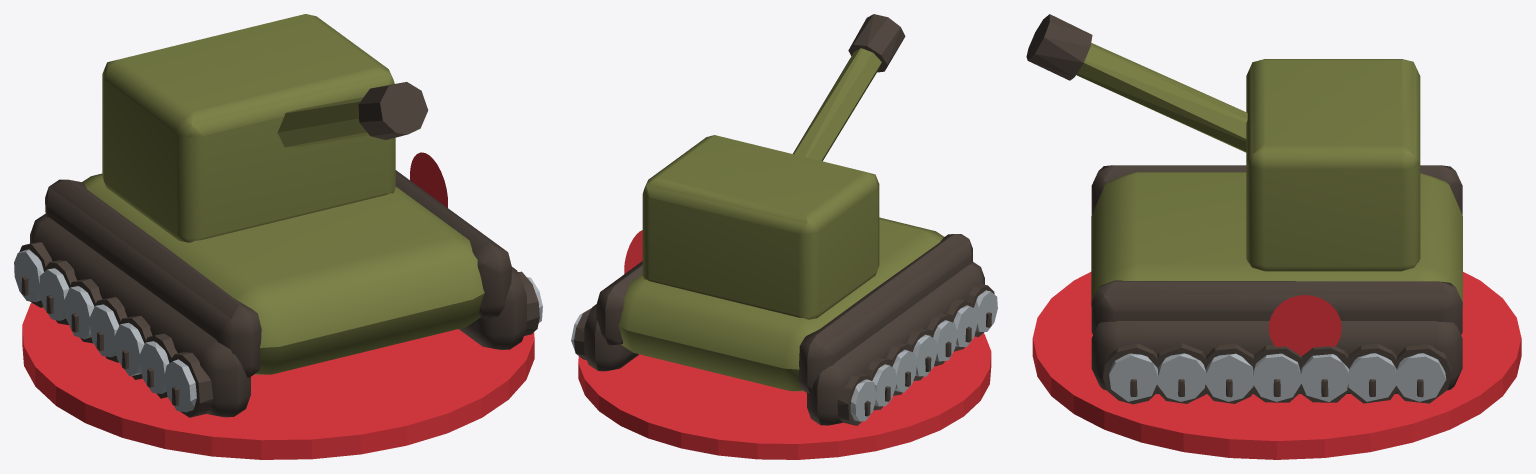
File: japan_artillery_lod0.glb
3 views of the same model, side by side, from view 1: azimuth 30°, elevation 25°; view 2: azimuth 150°, elevation 25°; view 3: azimuth 270°, elevation 25° (orthographic). The views are drawn at different scales.
Parts seen in each view (by area): view 1: body_hull, base_pedestal; view 2: body_hull, base_pedestal; view 3: body_hull, base_pedestal.
Boxes of the visible parts, x1,y1,x2,y2 form: body_hull: (14,14,542,417); base_pedestal: (22,302,534,459); body_hull: (571,14,997,425); base_pedestal: (578,333,991,459); body_hull: (1026,14,1462,404); base_pedestal: (1032,272,1521,459).
Bounding box in the file's own units: 0.7701 × 0.5885 × 0.78.
